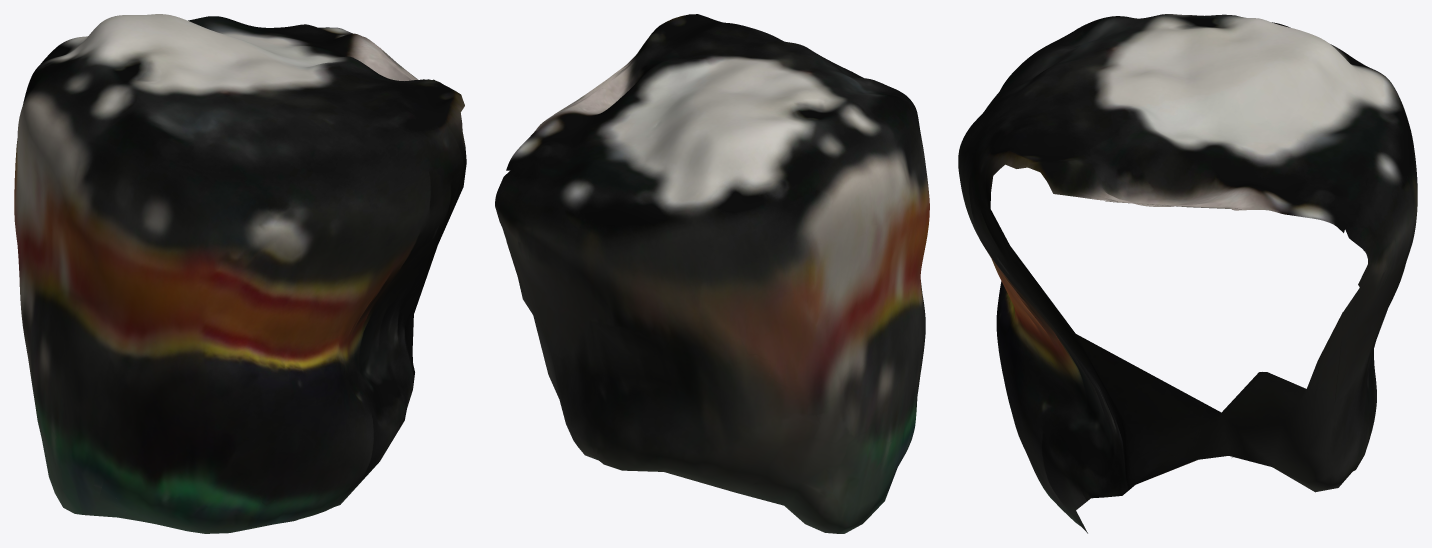
3 renders of one model, left to right at view 1: azimuth 30°, elevation 25°; view 2: azimuth 150°, elevation 25°; view 3: azimuth 270°, elevation 25°, orthographic. The views are drawn at different scales.
Bounding box in the file's own units: 0.2327 × 0.2807 × 0.2598.
1 material, 1 textured.
